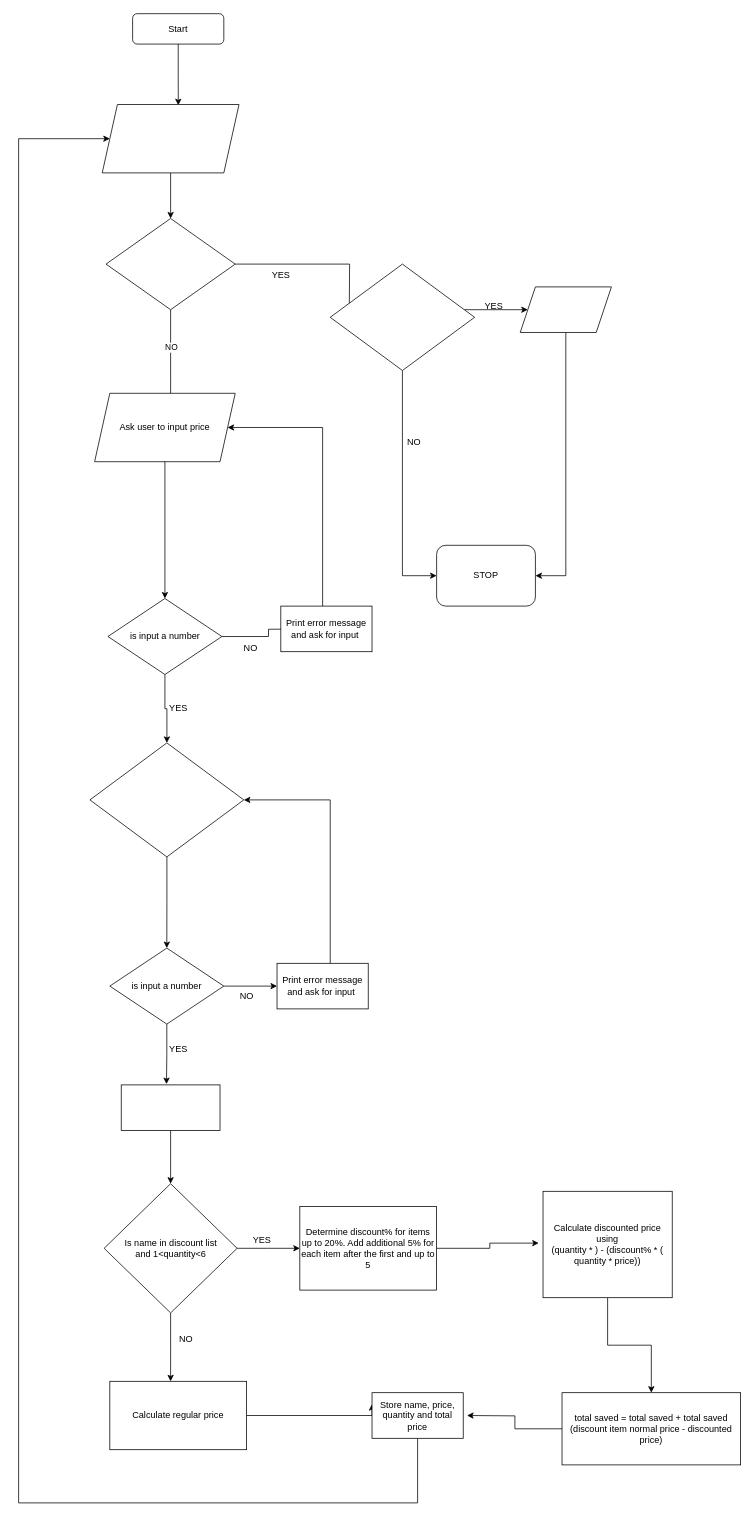
The diagram is 754 pixels wide and 1522 high, and some of its shapes have lost their labels. The box of each missing label's shape, as (x1, y1, x2, y2) in pixels:
Ask user to input name: (101, 104, 239, 173)
Ask user to input quantity: (89, 742, 244, 857)
convert price and quantity to float and integer respectively: (120, 1084, 220, 1130)
Does the cart have items: (329, 263, 475, 370)
Is input = Enter?: (105, 218, 235, 310)
Print receipt: (519, 286, 611, 332)
